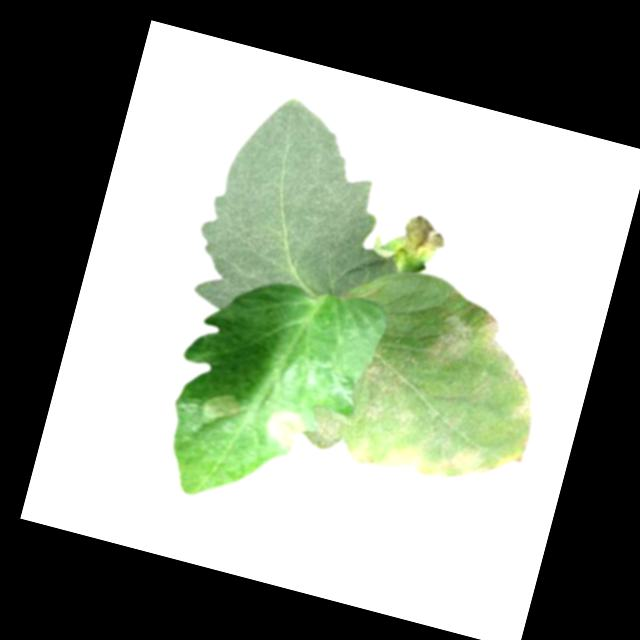Late_blight: (298, 274, 558, 506), (397, 208, 451, 263), (261, 404, 309, 450), (200, 388, 246, 429)
